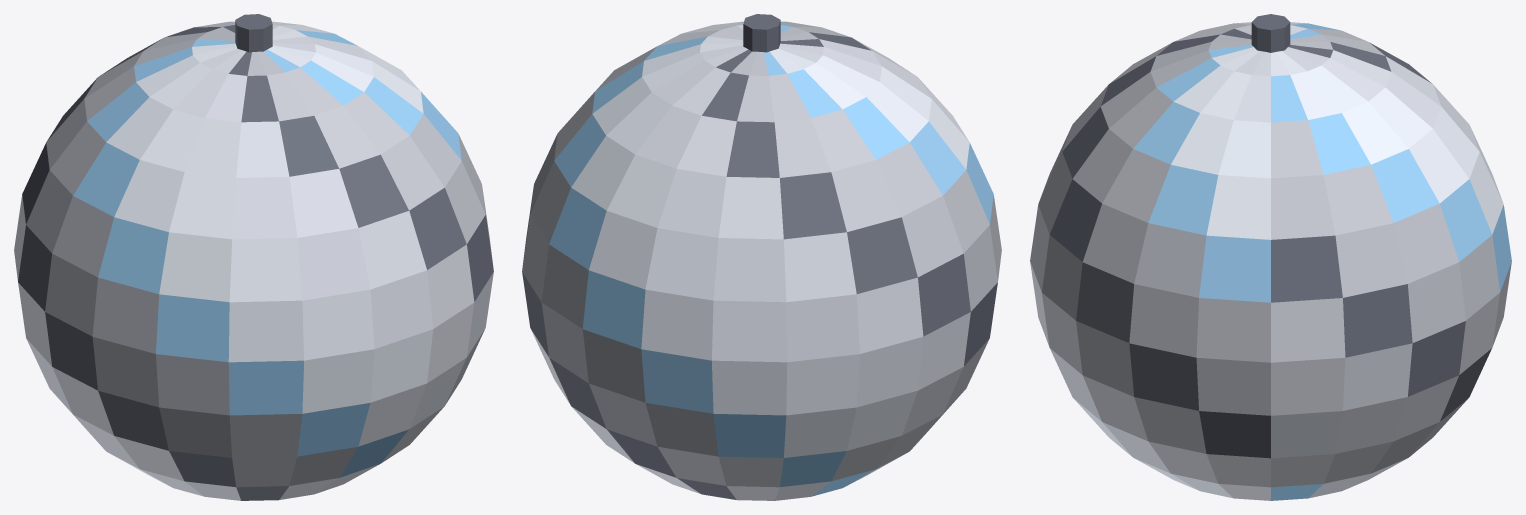
File: MirrorBall.obj
3 renders of one model, left to right at view 1: azimuth 30°, elevation 25°; view 2: azimuth 150°, elevation 25°; view 3: azimuth 270°, elevation 25°, orthographic.
Parts seen in each view (by area): view 1: MirrorBall; view 2: MirrorBall; view 3: MirrorBall.
Part boxes in pixels (box(x1,y1,x2,y2)): MirrorBall: box(14, 14, 493, 500); MirrorBall: box(522, 14, 1001, 500); MirrorBall: box(1030, 14, 1511, 500).
Size of the model in its own units: 1.5 by 1.57 by 1.5.
Materials: 7 (7 with a texture image).
